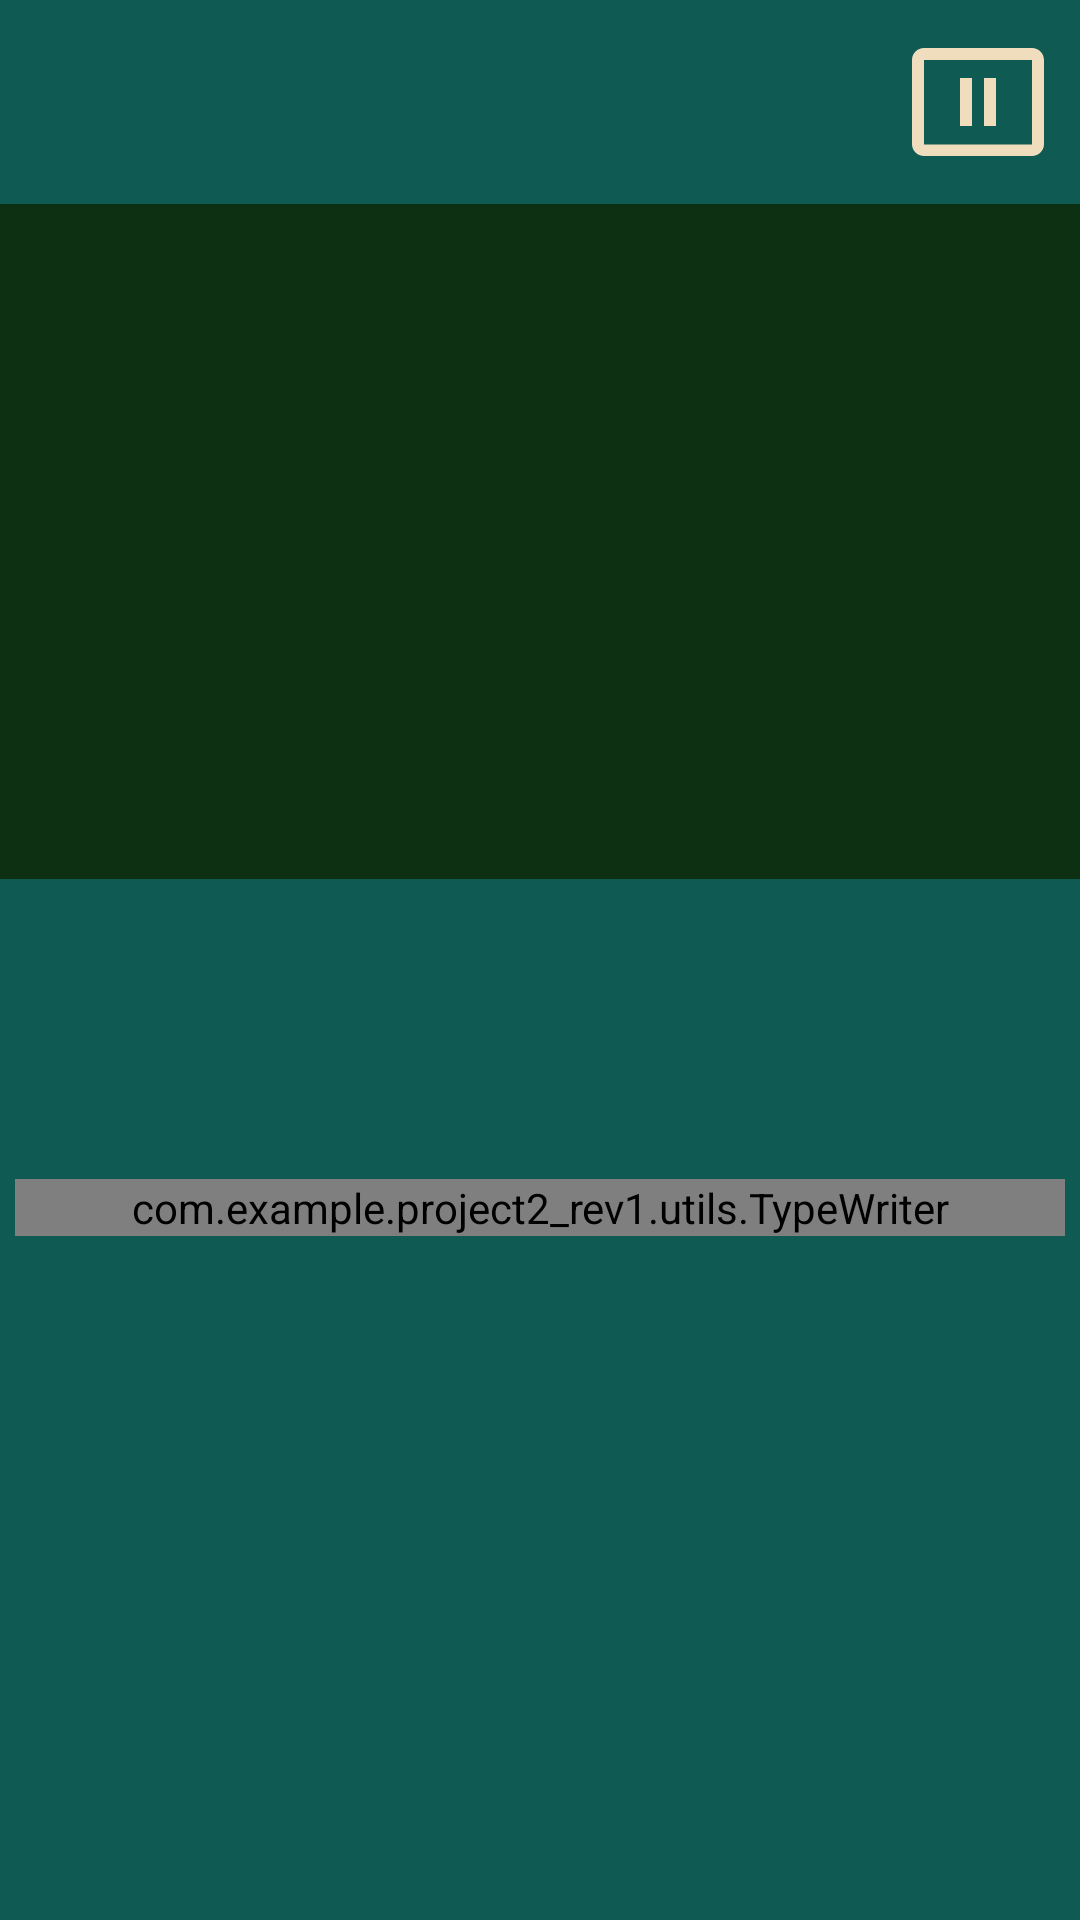

Where icons sit on this 1080×1920 app screen, as (x1, y1, x2, y2):
pause: (912, 48, 1044, 156)
